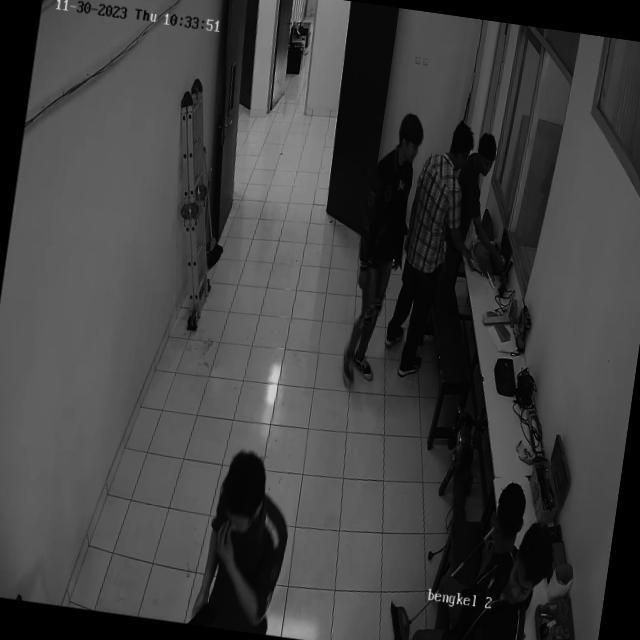person: (349, 98, 429, 396), (184, 443, 305, 638), (396, 115, 479, 388)
